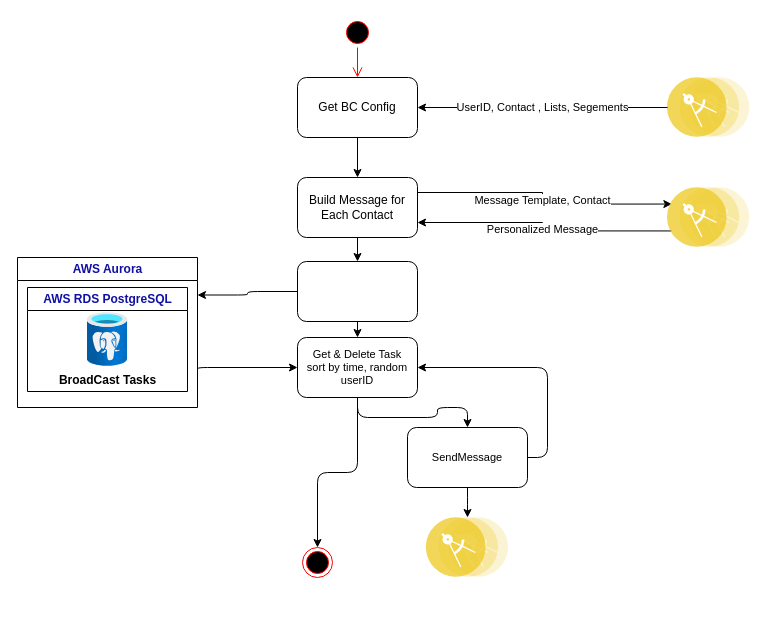
Some shapes in this 771 by 619 pixel diagram are drawn without their labels. The centre of each missing label's shape, as x and y in pixels:
Config Service: (708,107)
Message Builder: (708,217)
MessageService: (467,547)
Save Tasks: (357,291)
